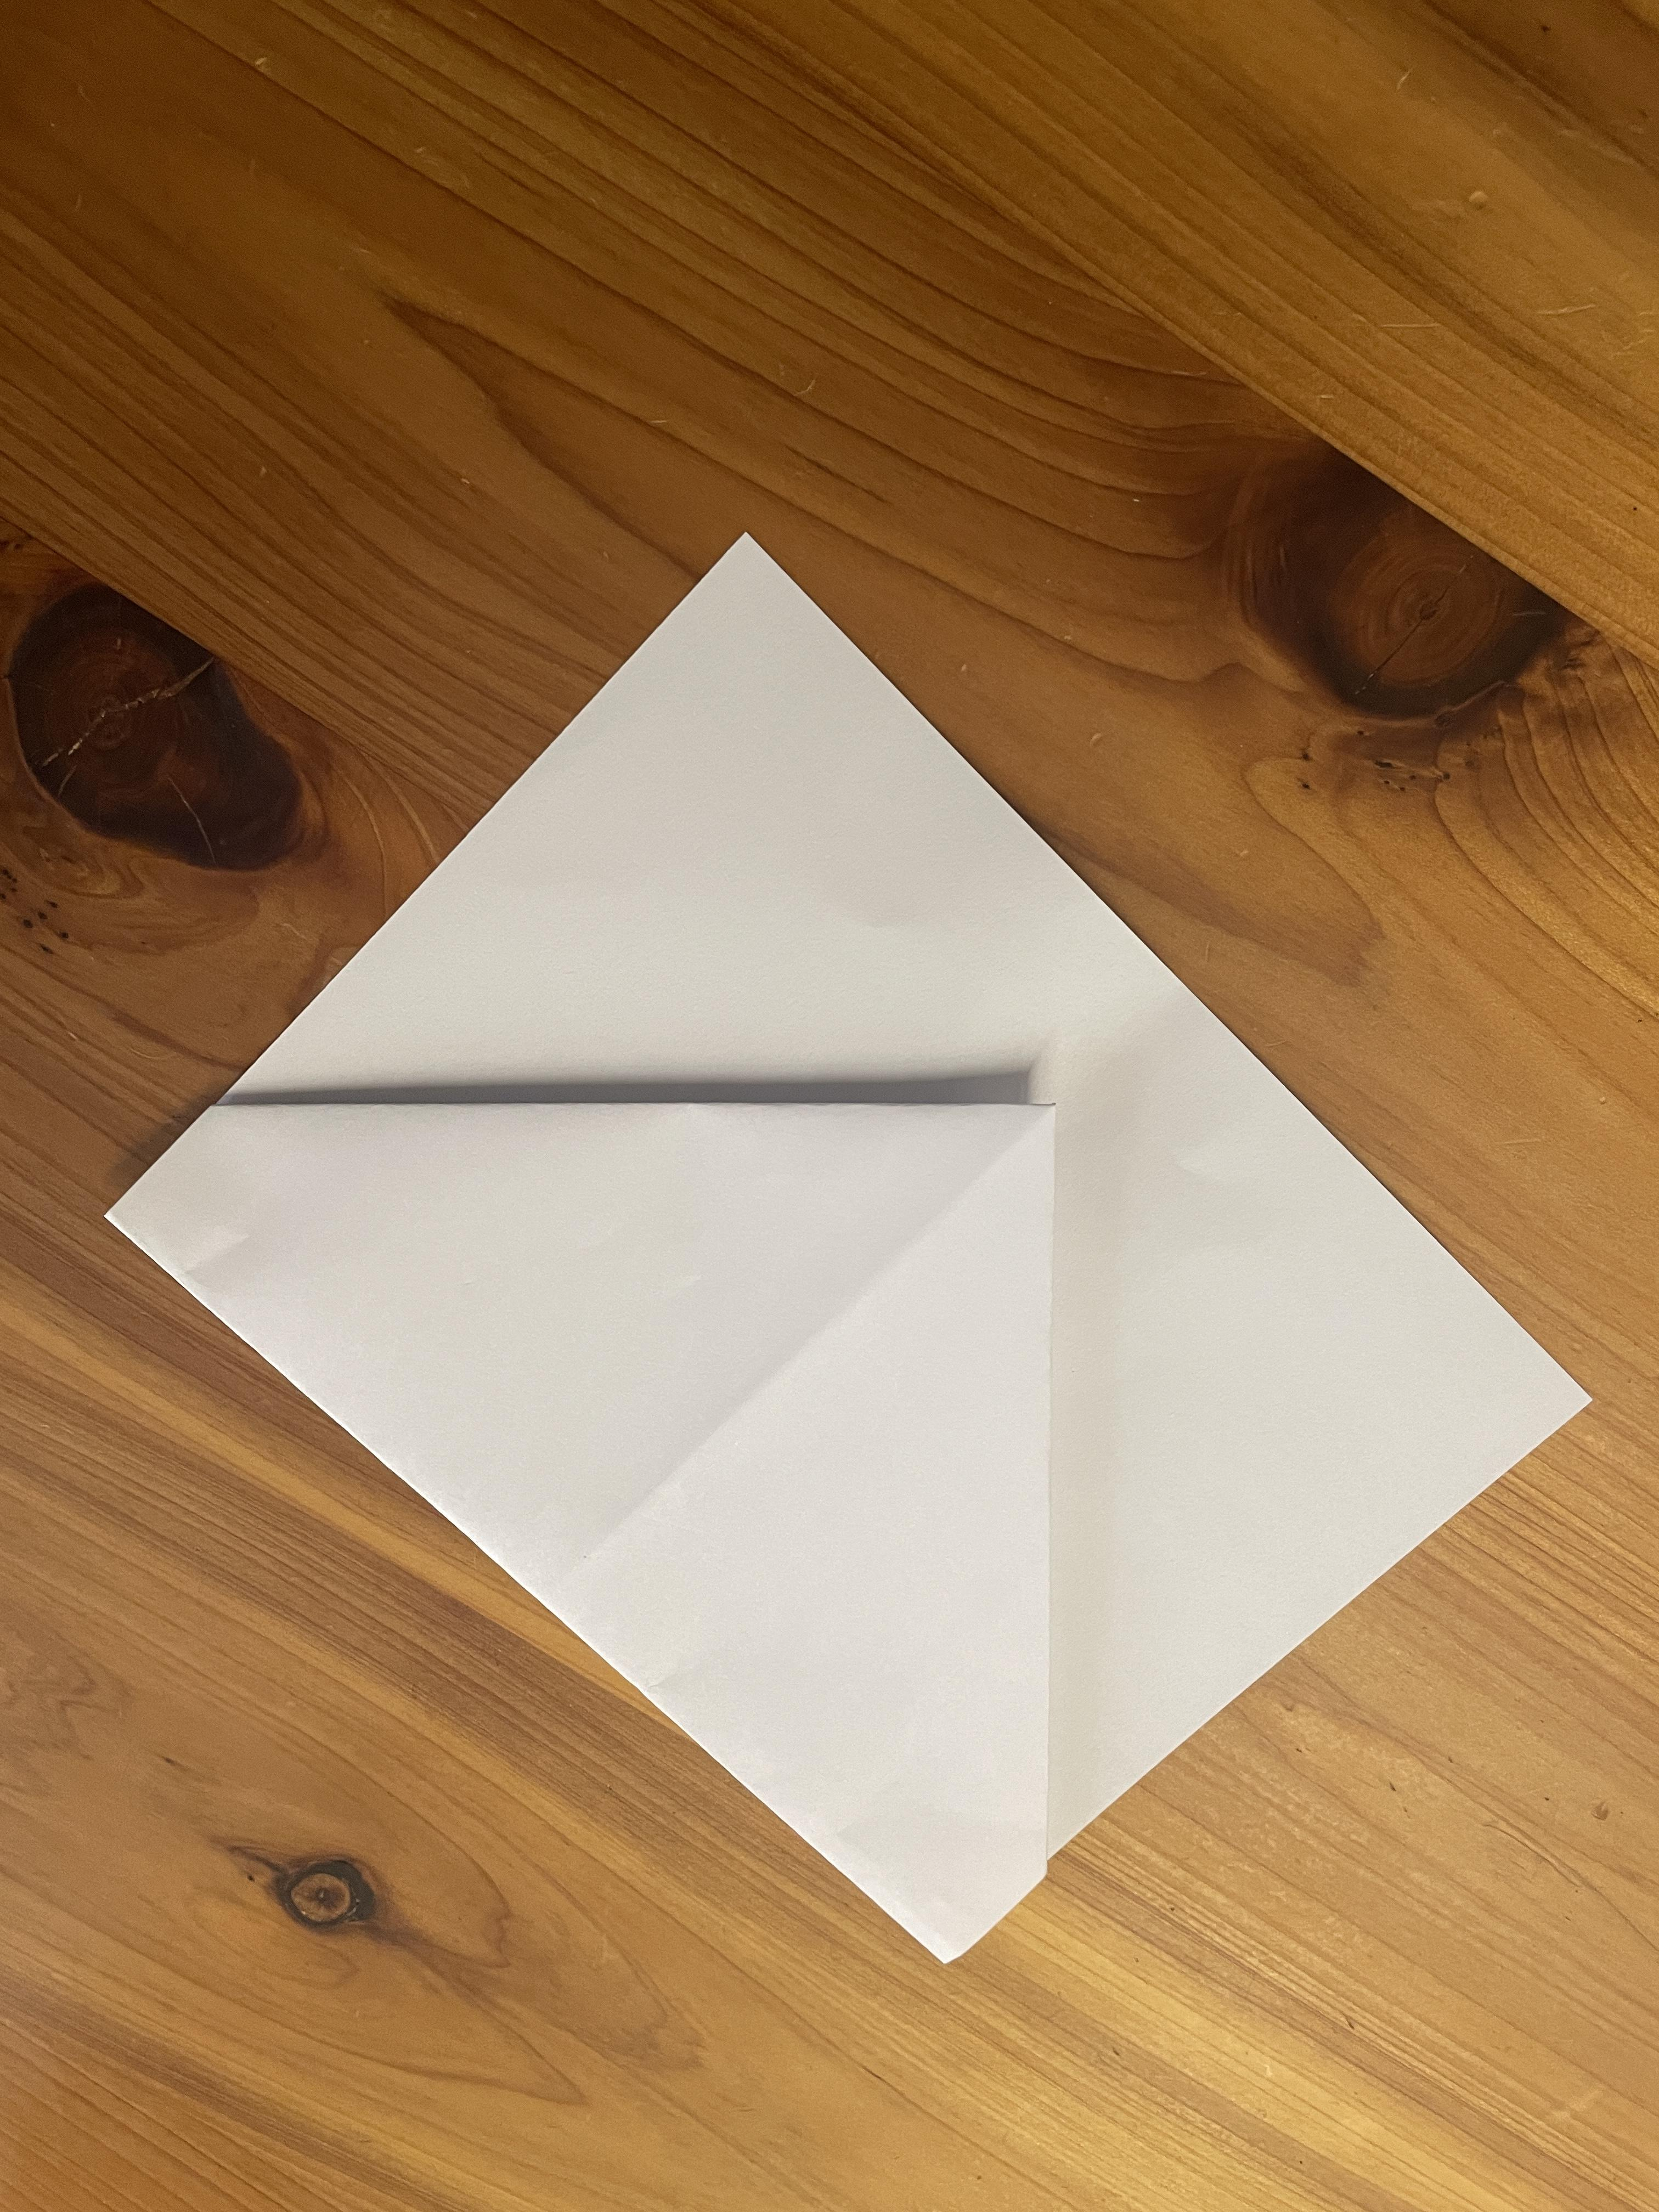shape_1: (66, 395, 1619, 2003)
